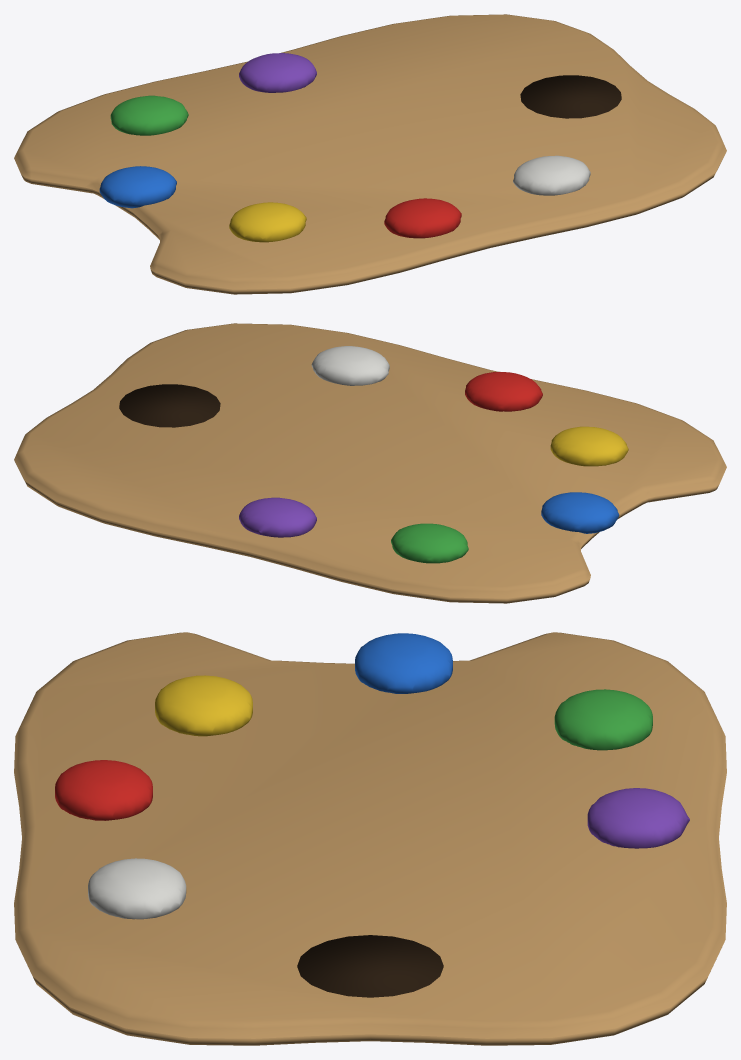
File: paint_palette.glb
The picture shows the model from 3 angles, top to bottom: view 1: azimuth 30°, elevation 25°; view 2: azimuth 150°, elevation 25°; view 3: azimuth 270°, elevation 25°; orthographic projection. The views are drawn at different scales.
Visible parts, largest first — view 1: paint_palette; view 2: paint_palette; view 3: paint_palette.
Part boxes in pixels (left/top/right/bottom): paint_palette: left=14, top=14, right=726, bottom=294; paint_palette: left=14, top=323, right=726, bottom=603; paint_palette: left=14, top=632, right=726, bottom=1045.
Size of the model in its own units: 0.2837 by 0.0171 by 0.2139.
